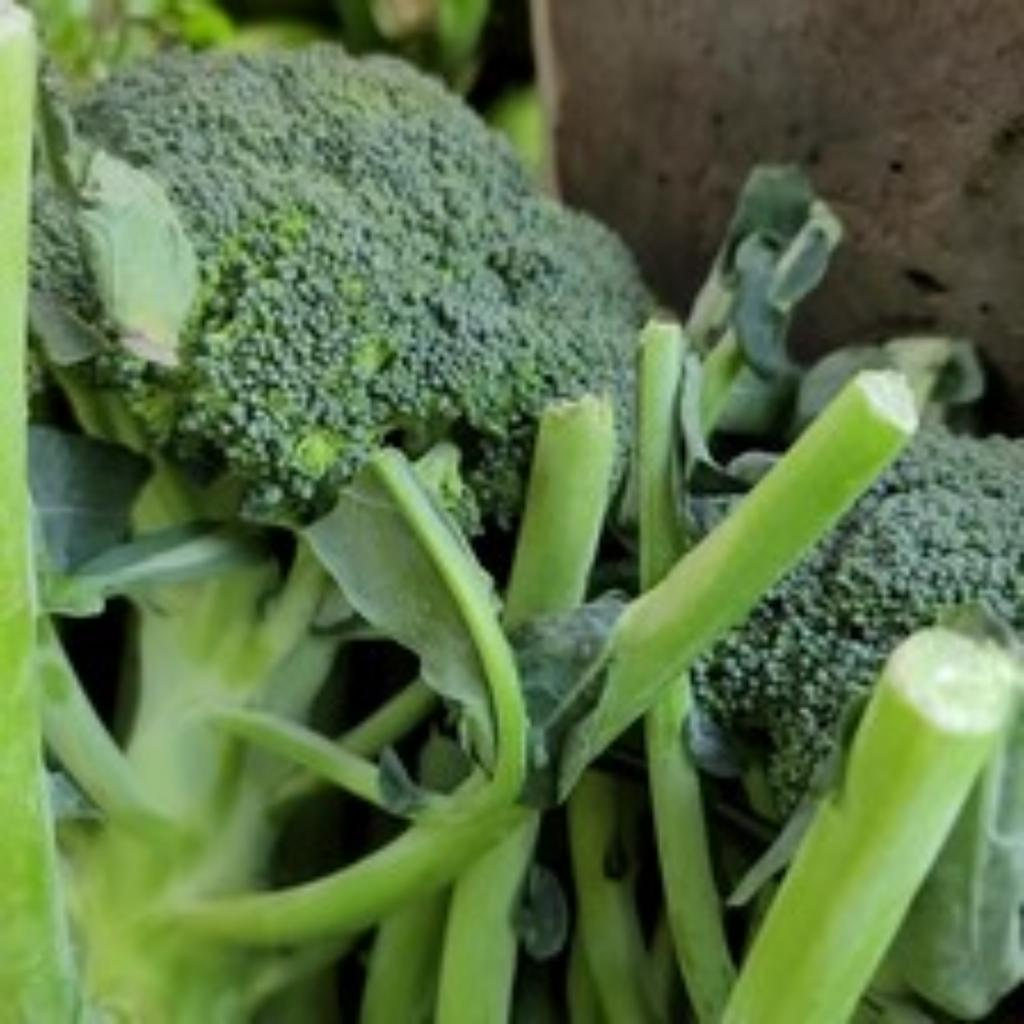Broccoli: (34, 46, 650, 525), (32, 46, 650, 523), (694, 430, 1024, 811), (696, 430, 1024, 811)
